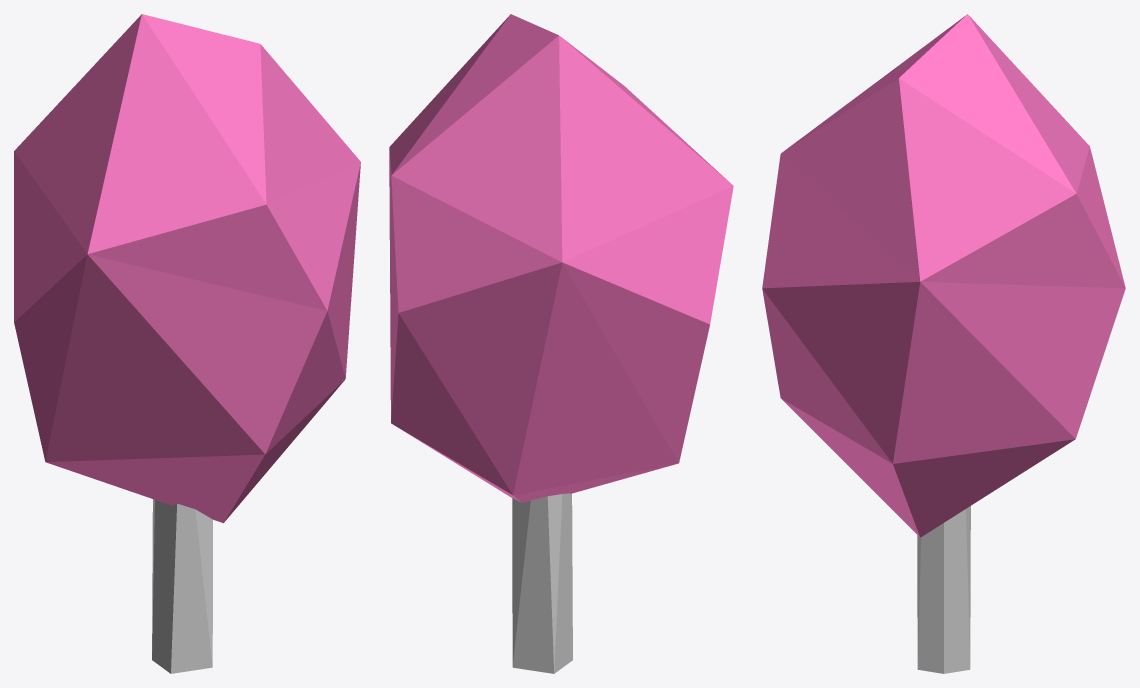
Rendered from CottonCandy.fbx.
3 renders of one model, left to right at view 1: azimuth 30°, elevation 25°; view 2: azimuth 150°, elevation 25°; view 3: azimuth 270°, elevation 25°, orthographic.
Parts seen in each view (by area): view 1: Icosphere, Cylinder; view 2: Icosphere, Cylinder; view 3: Icosphere, Cylinder.
Boxes of the visible parts, bbox=[...] form: Icosphere: bbox=[14, 14, 360, 523]; Cylinder: bbox=[152, 499, 212, 673]; Icosphere: bbox=[389, 14, 733, 502]; Cylinder: bbox=[512, 493, 572, 673]; Icosphere: bbox=[762, 14, 1125, 537]; Cylinder: bbox=[917, 506, 970, 673].
Size of the model in its own units: 241 by 445 by 231.
